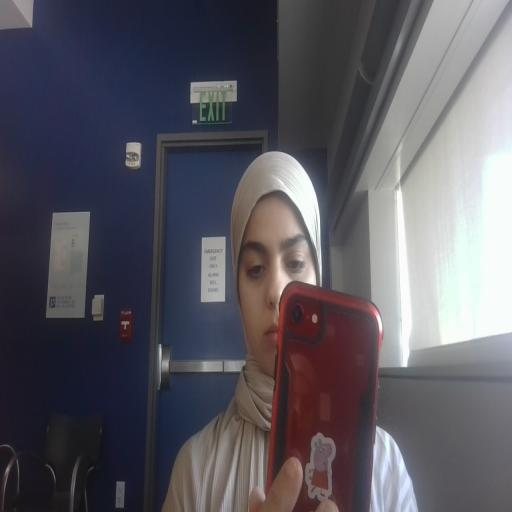phone: (273, 268, 394, 512)
